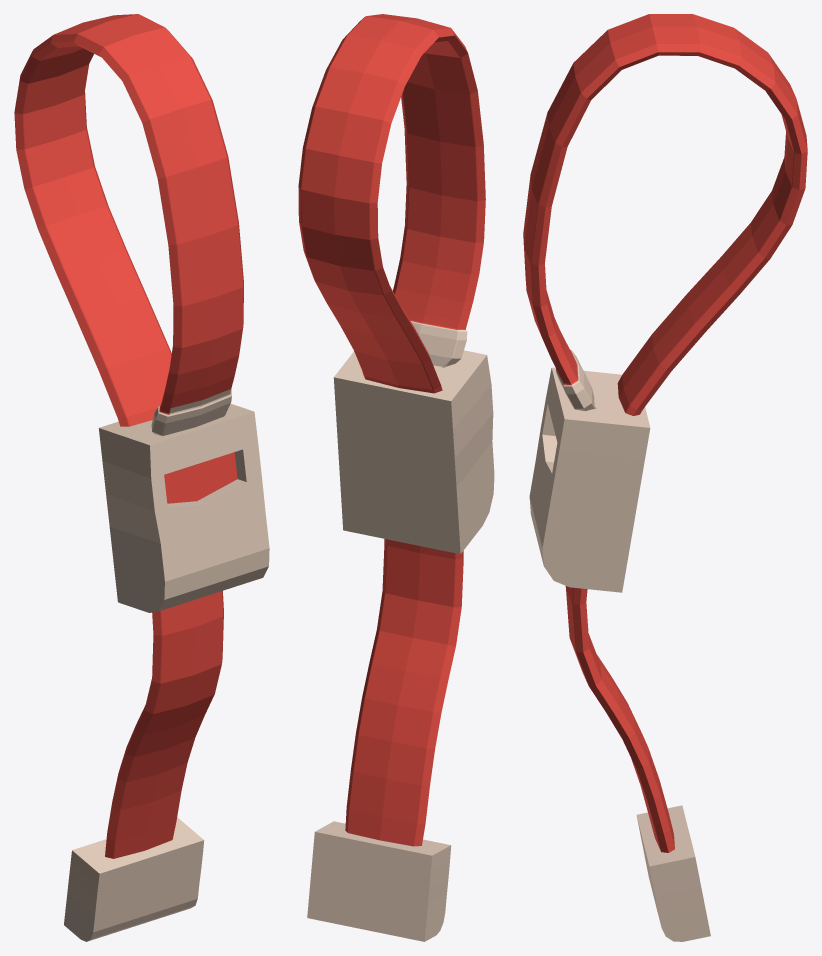
Rendered from garrote.fbx.
3 views of the same model, side by side, from view 1: azimuth 30°, elevation 25°; view 2: azimuth 150°, elevation 25°; view 3: azimuth 270°, elevation 25° (orthographic).
Visible parts, largest first — view 1: Plane; view 2: Plane; view 3: Plane.
Part boxes in pixels (x1=…): Plane: x1=14, y1=14, x2=269, y2=941; Plane: x1=298, y1=14, x2=494, y2=941; Plane: x1=523, y1=14, x2=807, y2=941.
Size of the model in its own units: 189 by 1269 by 370.
